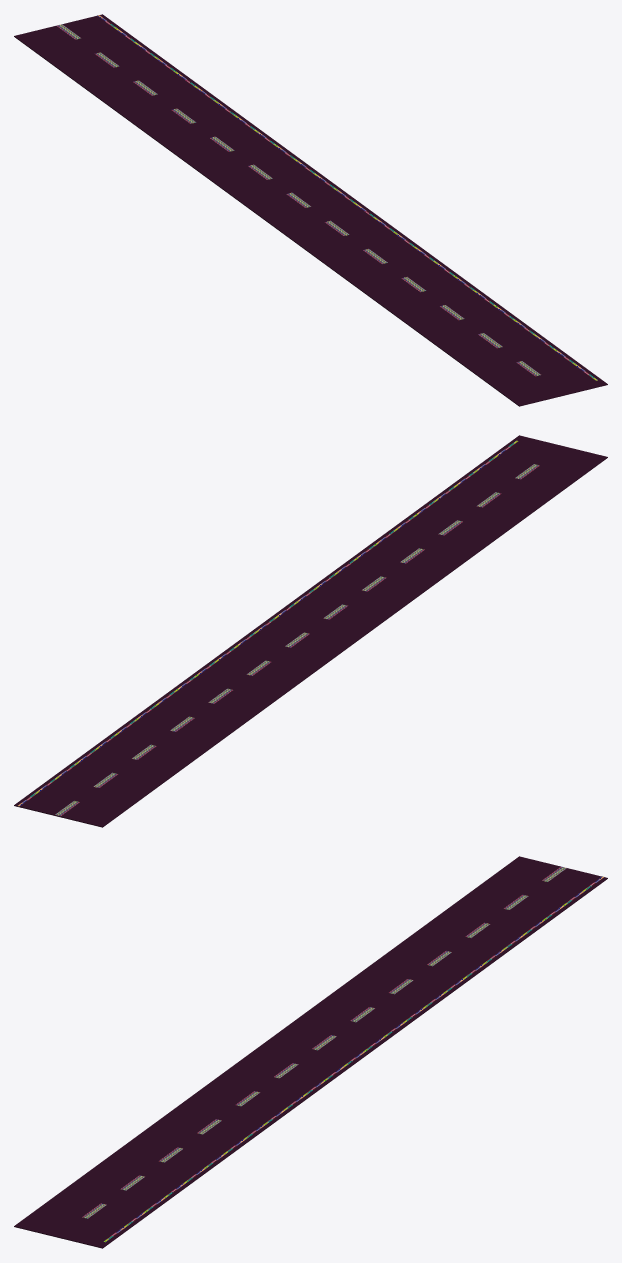
File: Runway.fbx
3 views of the same model, one above another, from view 1: azimuth 30°, elevation 25°; view 2: azimuth 150°, elevation 25°; view 3: azimuth 330°, elevation 25° (orthographic).
Parts seen in each view (by area): view 1: Plane.003; view 2: Plane.003; view 3: Plane.003.
Part boxes in pixels (x1=…): Plane.003: x1=14, y1=14, x2=607, y2=406; Plane.003: x1=14, y1=435, x2=607, y2=827; Plane.003: x1=14, y1=856, x2=607, y2=1248.
Size of the model in its own units: 81.9 by 0.8615 by 808.
Materials: 1 (1 with a texture image).
